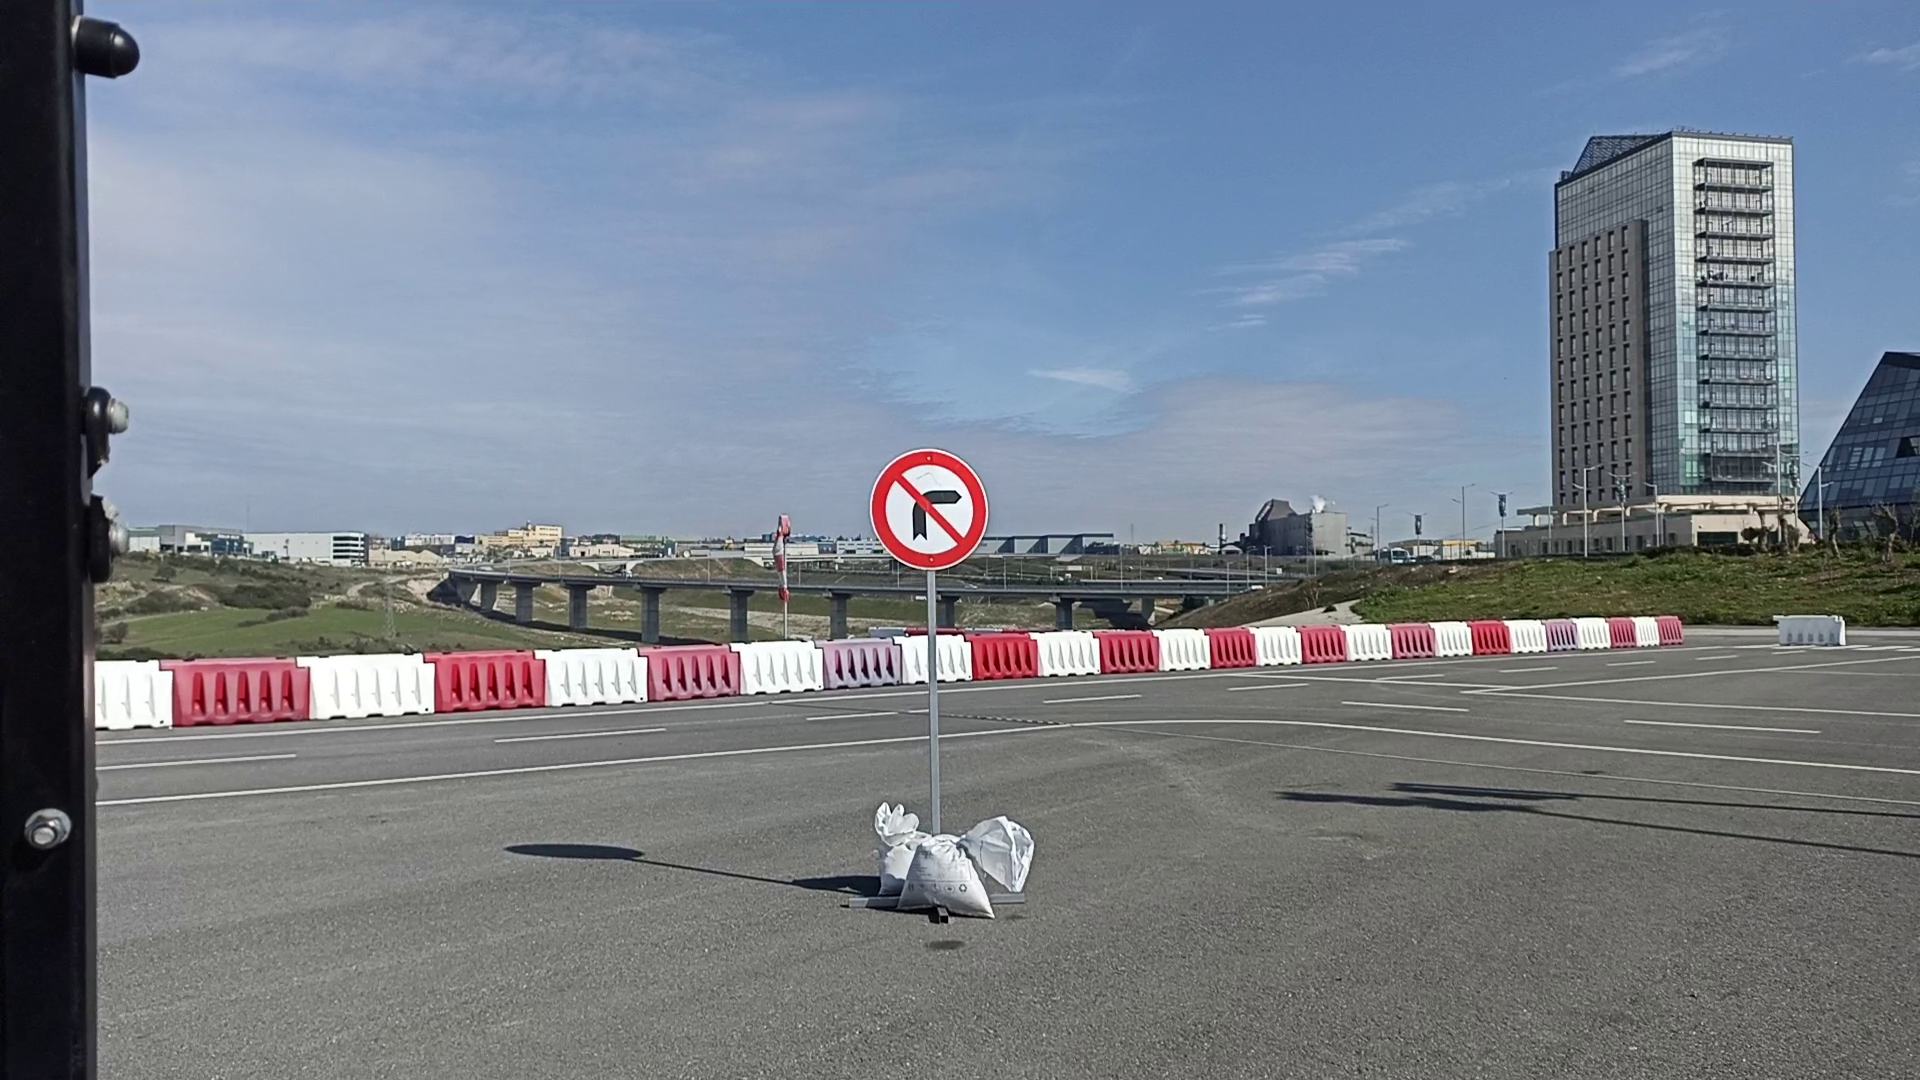noleftturn: (866, 446, 992, 572)
